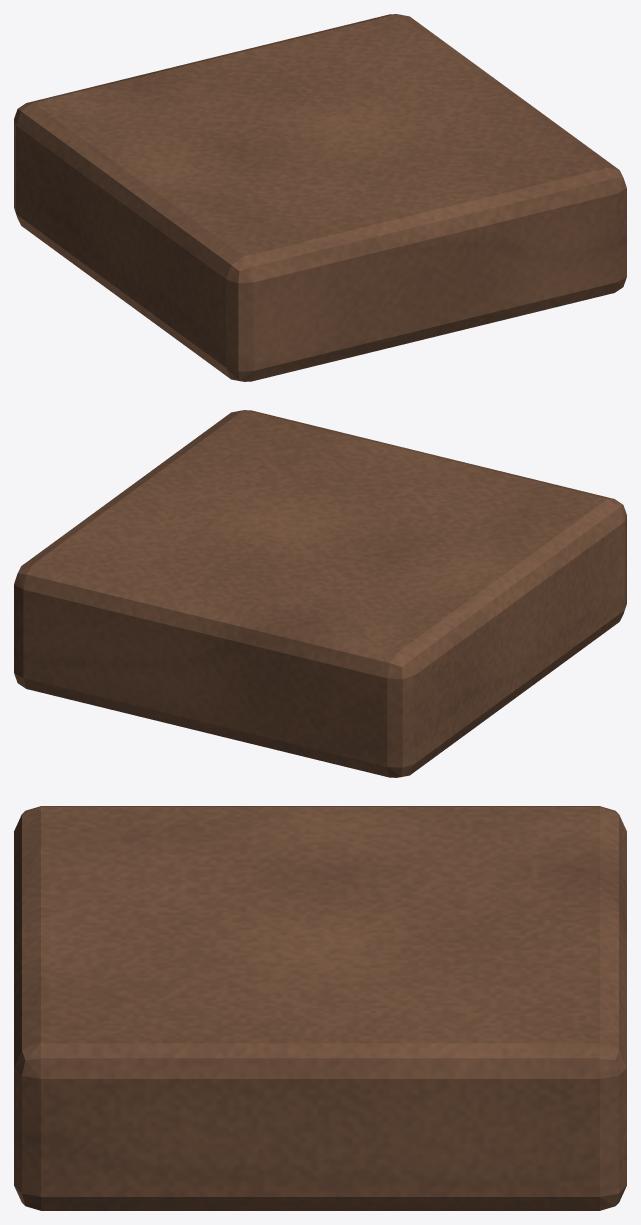
Rendered from RightHand.fbx.
The picture shows the model from 3 angles, top to bottom: view 1: azimuth 30°, elevation 25°; view 2: azimuth 150°, elevation 25°; view 3: azimuth 270°, elevation 25°; orthographic projection. The views are drawn at different scales.
Visible parts, largest first — view 1: RightHand; view 2: RightHand; view 3: RightHand.
Boxes of the visible parts, bbox=[...] form: RightHand: bbox=[14, 14, 626, 381]; RightHand: bbox=[14, 410, 626, 777]; RightHand: bbox=[14, 806, 626, 1210].
Bounding box in the file's own units: 1 × 0.3001 × 1.
Materials: 1 (1 with a texture image).
